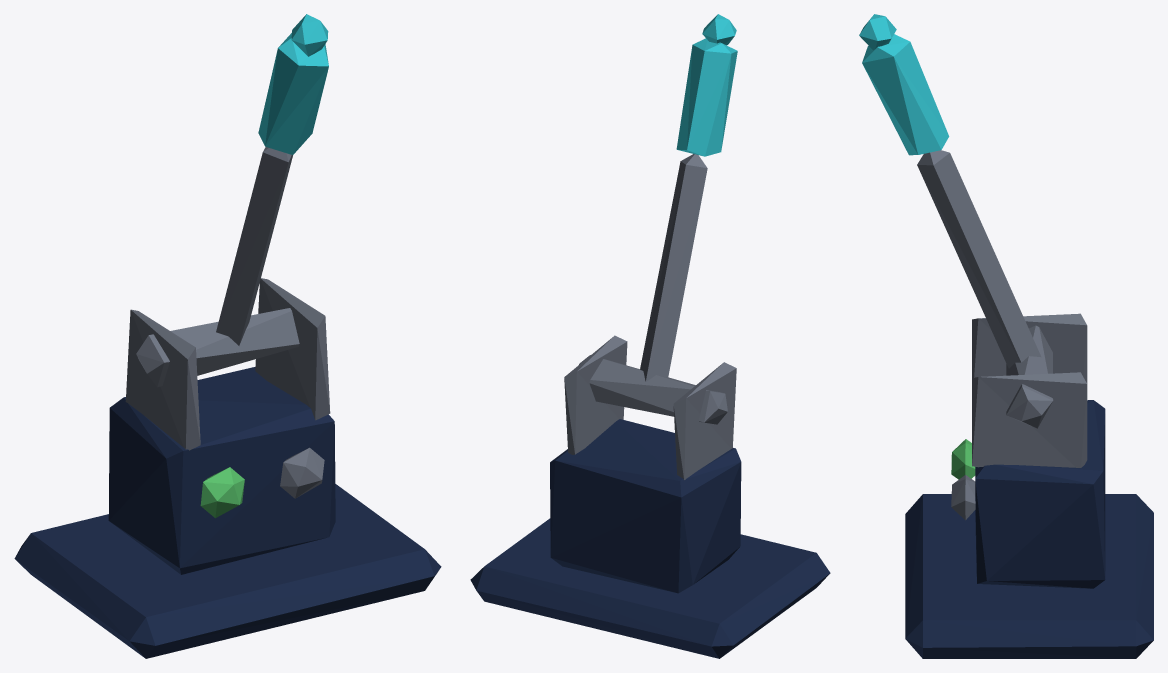
File: lever_lod1.obj
3 views of the same model, side by side, from view 1: azimuth 30°, elevation 25°; view 2: azimuth 150°, elevation 25°; view 3: azimuth 270°, elevation 25° (orthographic). The views are drawn at different scales.
Visible parts, largest first — view 1: lever_lod1; view 2: lever_lod1; view 3: lever_lod1.
Part boxes in pixels (x1,y1,x2,y2): lever_lod1: (14, 14, 441, 658); lever_lod1: (470, 14, 830, 658); lever_lod1: (859, 14, 1153, 658).
Bounding box in the file's own units: 0.6263 × 1.2 × 0.5529.
